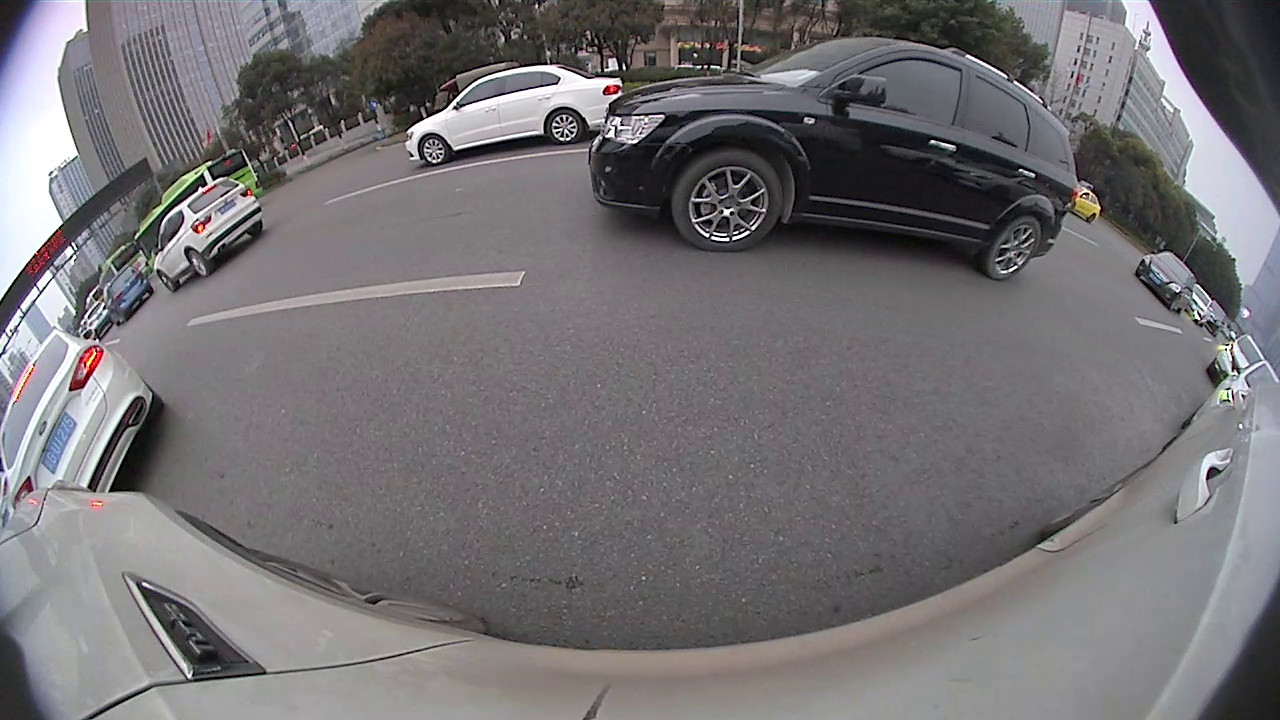car: (584, 34, 1078, 285), (5, 328, 168, 500), (401, 63, 627, 172), (152, 172, 267, 294), (1134, 247, 1198, 317)
front: (667, 149, 785, 253), (419, 132, 452, 166), (187, 250, 211, 278)
rear: (983, 211, 1043, 281), (545, 108, 584, 147)
